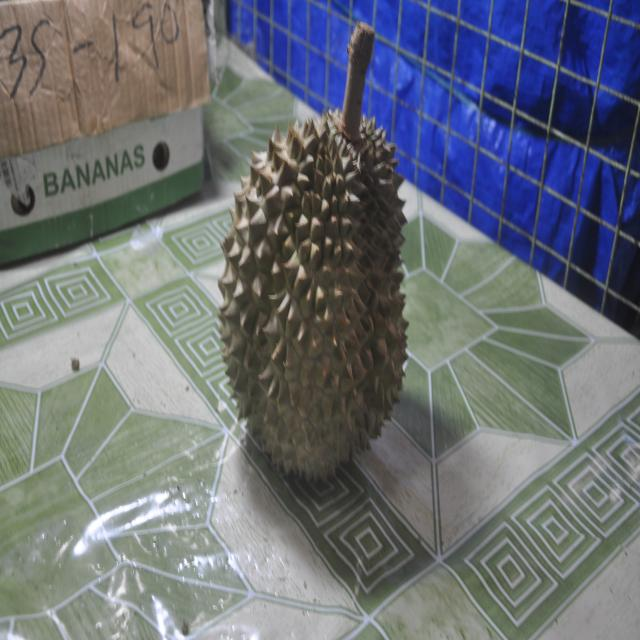mature: (219, 22, 408, 481)
